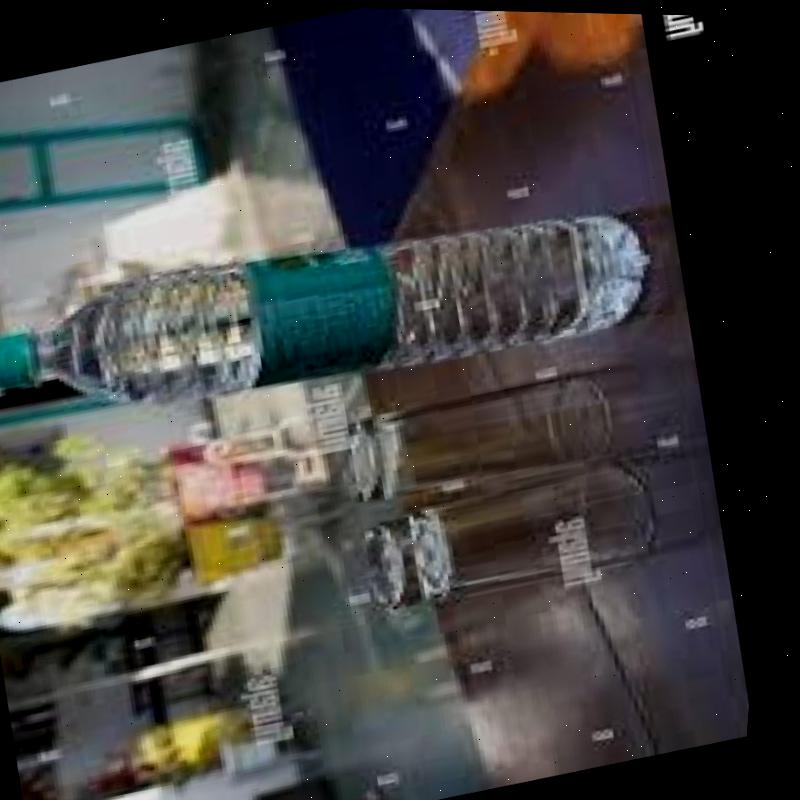botella: (0, 162, 669, 468)
